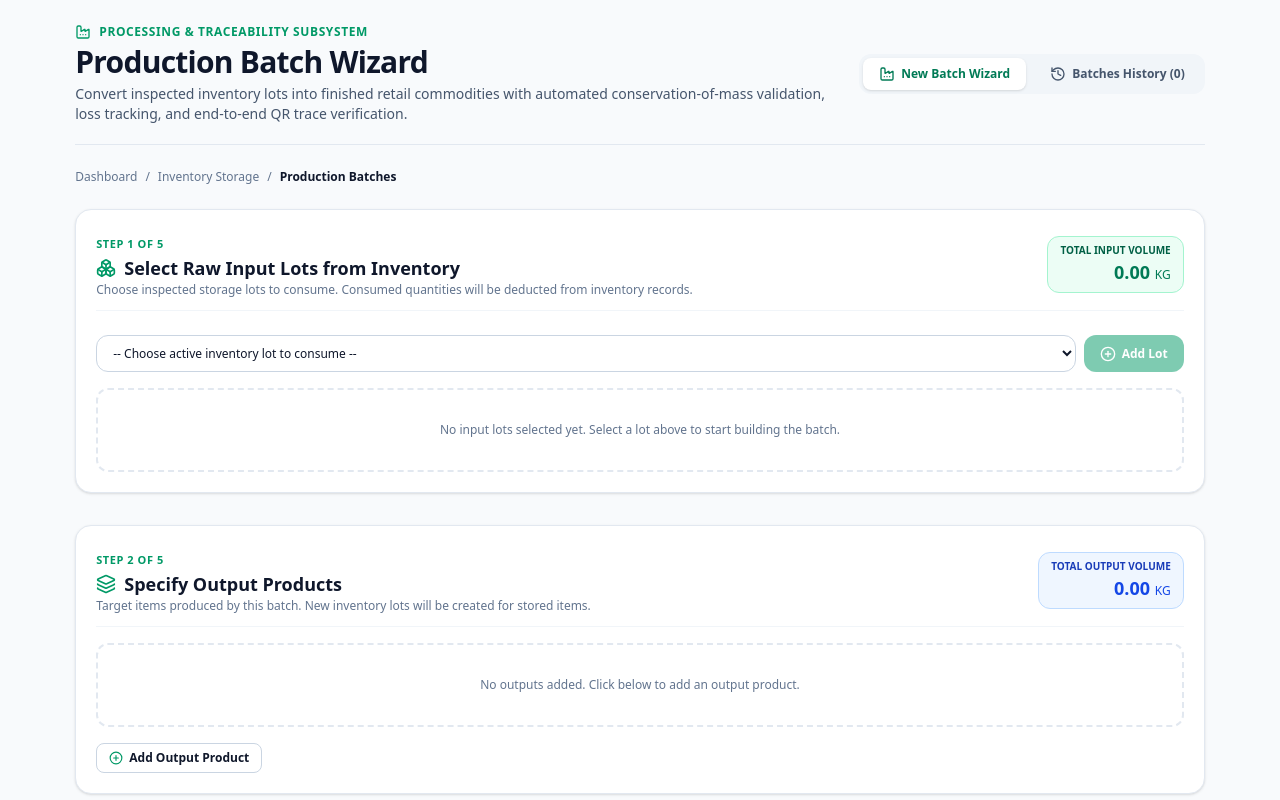
Test: F-904: Production Batch Creation Wizard & Conservation of Mass › adds output products and calculates total output volume
The width and height of the screenshot is (1280, 800).
Click the button with test id "add-output-btn" at x=179, y=758, box [96, 743, 262, 773]
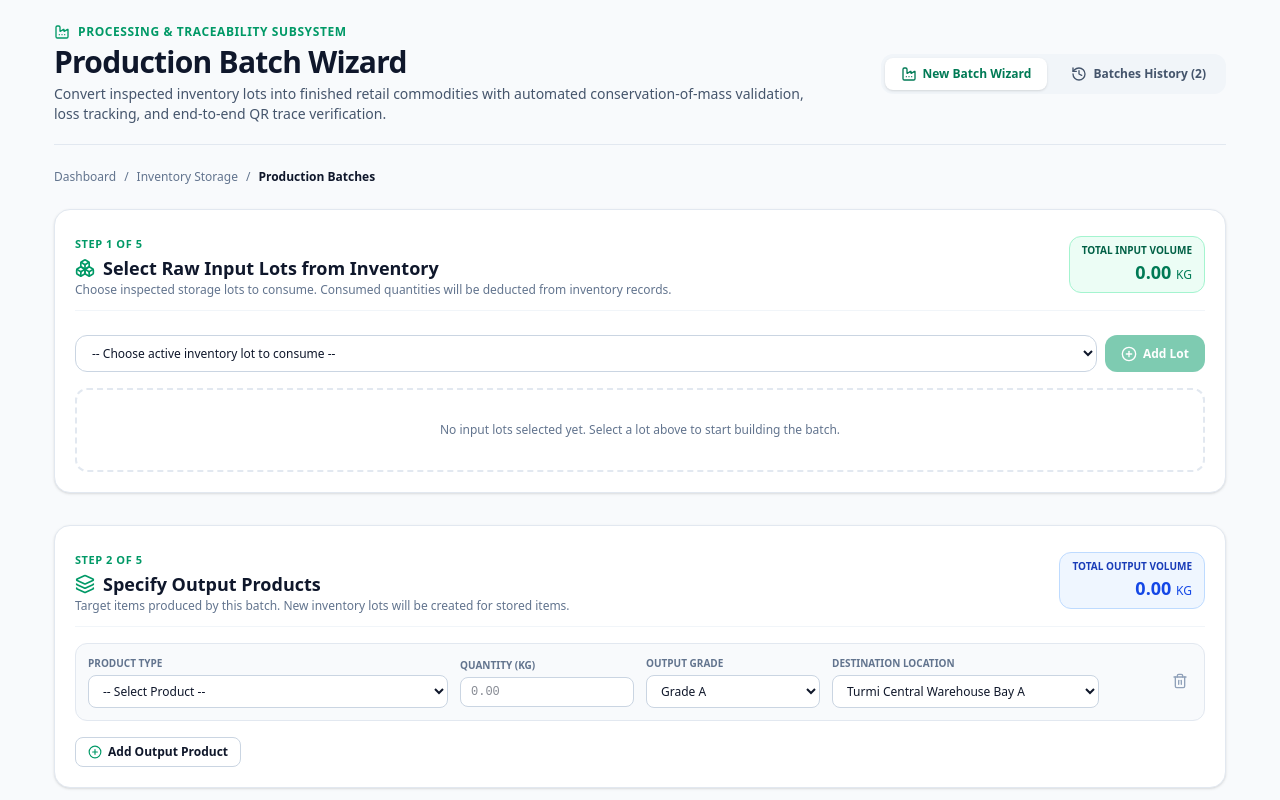
expect the element with test id "output-row-0" is shown: met, box [75, 643, 1205, 721]
Type "45" into the number field with test id "output-quantity-0" at x=547, y=692, box [460, 676, 634, 706]
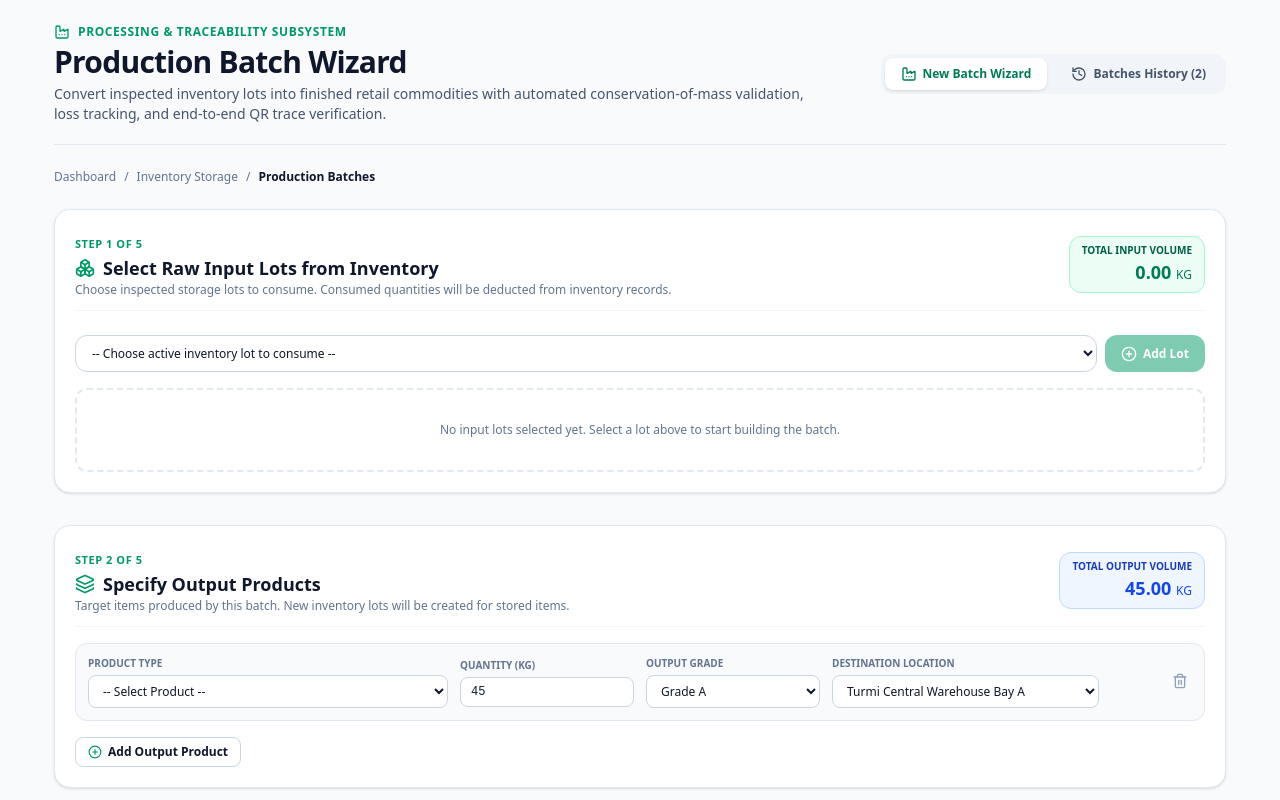
expect the element with test id "total-outputs-metric" shows "45.00": met, box [1125, 576, 1171, 600]
